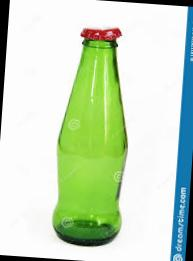glass: (33, 16, 150, 258)
